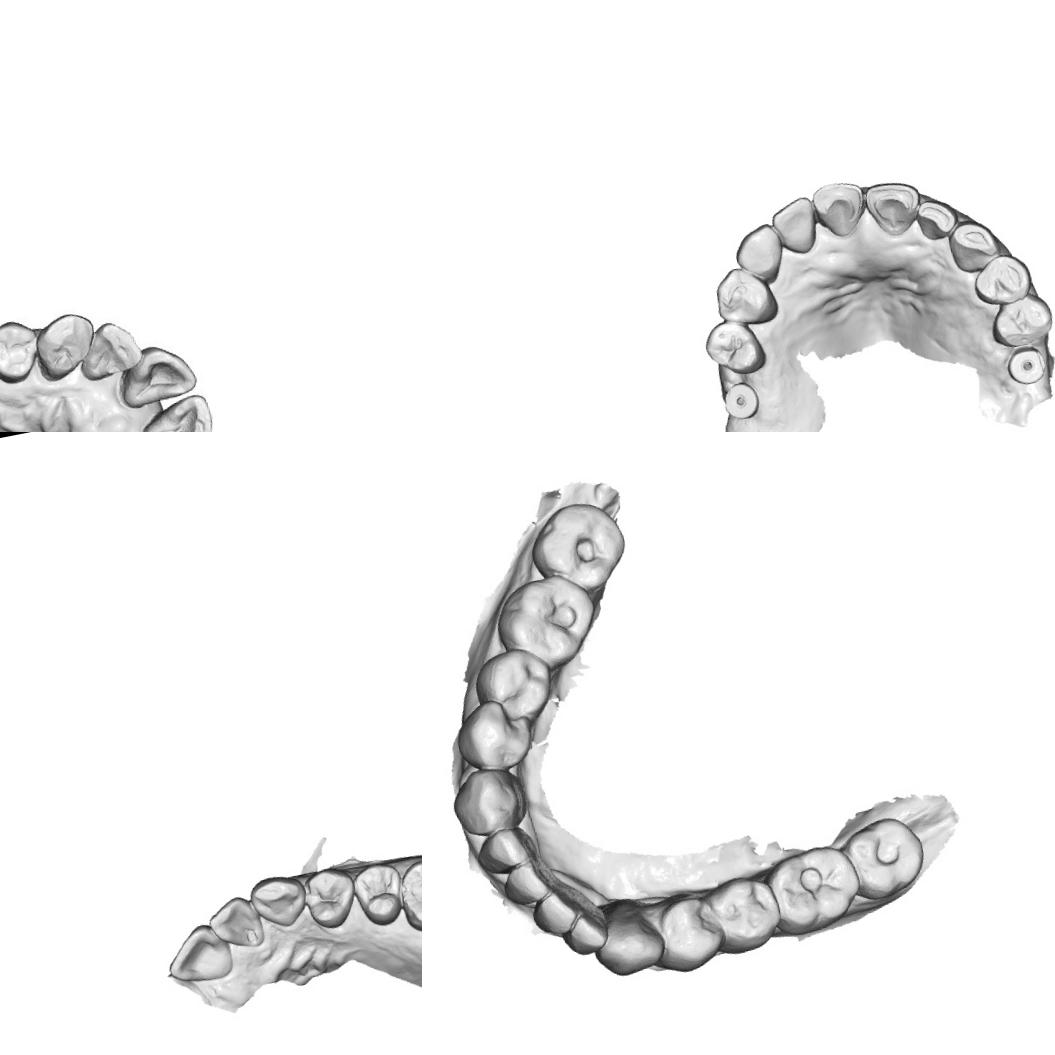canine: (444, 760, 534, 841), (587, 896, 669, 982), (30, 306, 101, 387), (244, 868, 312, 934), (728, 220, 788, 288), (943, 214, 1004, 276)
implant: (1003, 342, 1051, 388), (718, 378, 764, 424)
incisor: (112, 337, 201, 413), (159, 918, 237, 988), (73, 314, 148, 384), (860, 174, 926, 242), (201, 890, 267, 955), (808, 175, 870, 242), (767, 191, 822, 259), (130, 390, 219, 432), (472, 822, 536, 879), (496, 858, 562, 912), (527, 886, 585, 940), (912, 195, 959, 244), (562, 908, 608, 958)
molar: (487, 568, 606, 678), (521, 493, 634, 602), (764, 838, 865, 938), (838, 812, 934, 908), (391, 851, 422, 939)
premolar: (470, 640, 560, 729), (450, 694, 538, 777), (704, 870, 784, 958), (652, 890, 725, 975), (707, 260, 782, 332), (700, 312, 770, 382), (296, 861, 362, 933), (983, 289, 1055, 351), (347, 857, 408, 930), (966, 248, 1036, 308), (0, 314, 44, 386)
